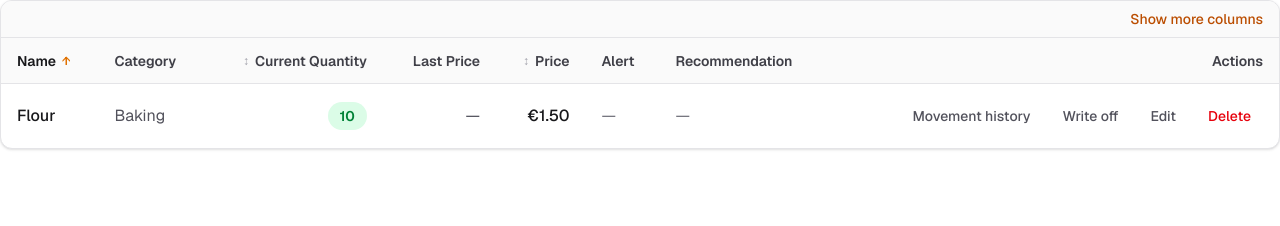
Test case: InventoryTable compact/expanded columns › reveals the remaining expanded-only columns after clicking 'Show more columns', and the toggle flips to 'Show fewer columns'
The image size is (1280, 226).
Click the button "Show more columns" at point(1197, 19), box [1130,9,1263,29]
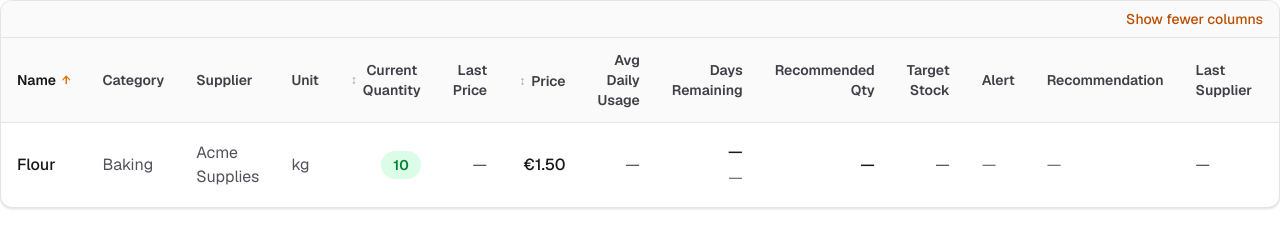
Result: the column heading "Supplier" is shown at [180,38,276,122]
Result: the column heading "Unit" is shown at [275,38,335,122]
Result: the column heading "Avg Daily Usage" is shown at [582,38,656,122]
